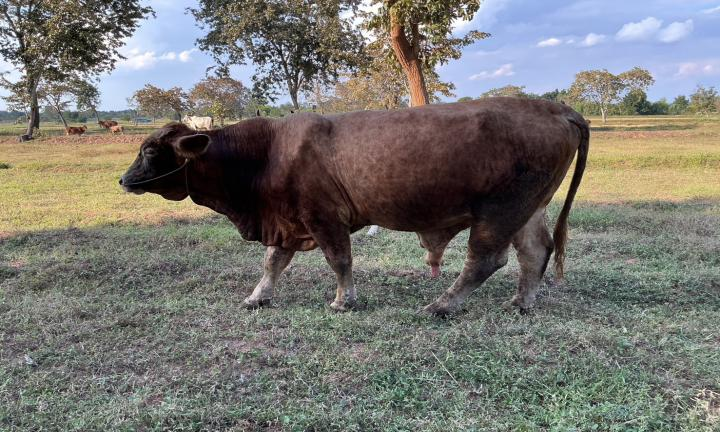Charolais: (119, 98, 589, 314)
